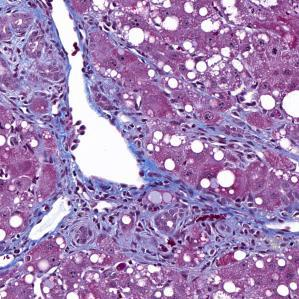fibrosis: (0, 0, 77, 119), (156, 200, 299, 261), (60, 172, 162, 256), (189, 122, 275, 160)
